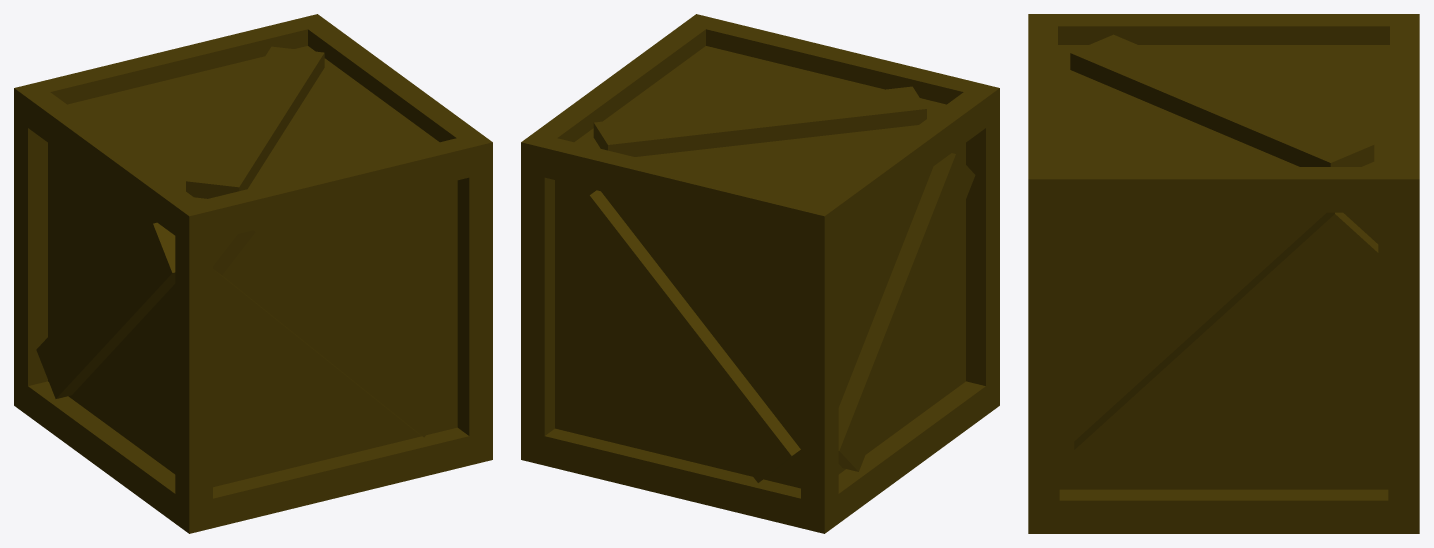
Rendered from Crate.fbx.
3 renders of one model, left to right at view 1: azimuth 30°, elevation 25°; view 2: azimuth 150°, elevation 25°; view 3: azimuth 270°, elevation 25°, orthographic. The views are drawn at different scales.
Visible parts, largest first — view 1: pCube28; view 2: pCube28; view 3: pCube28.
Boxes of the visible parts, x1,y1,x2,y2 form: pCube28: (14,14,492,533); pCube28: (521,14,999,533); pCube28: (1028,14,1419,533).
Bounding box in the file's own units: 2.29 × 2.29 × 2.29.
